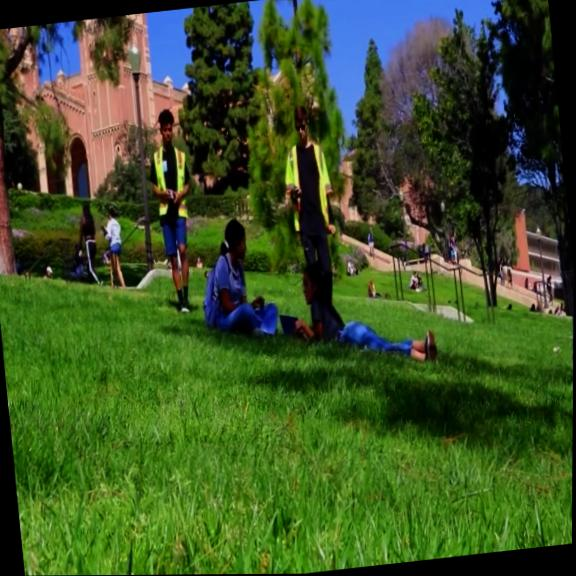safety_vest: (278, 139, 339, 233), (150, 145, 194, 221)
